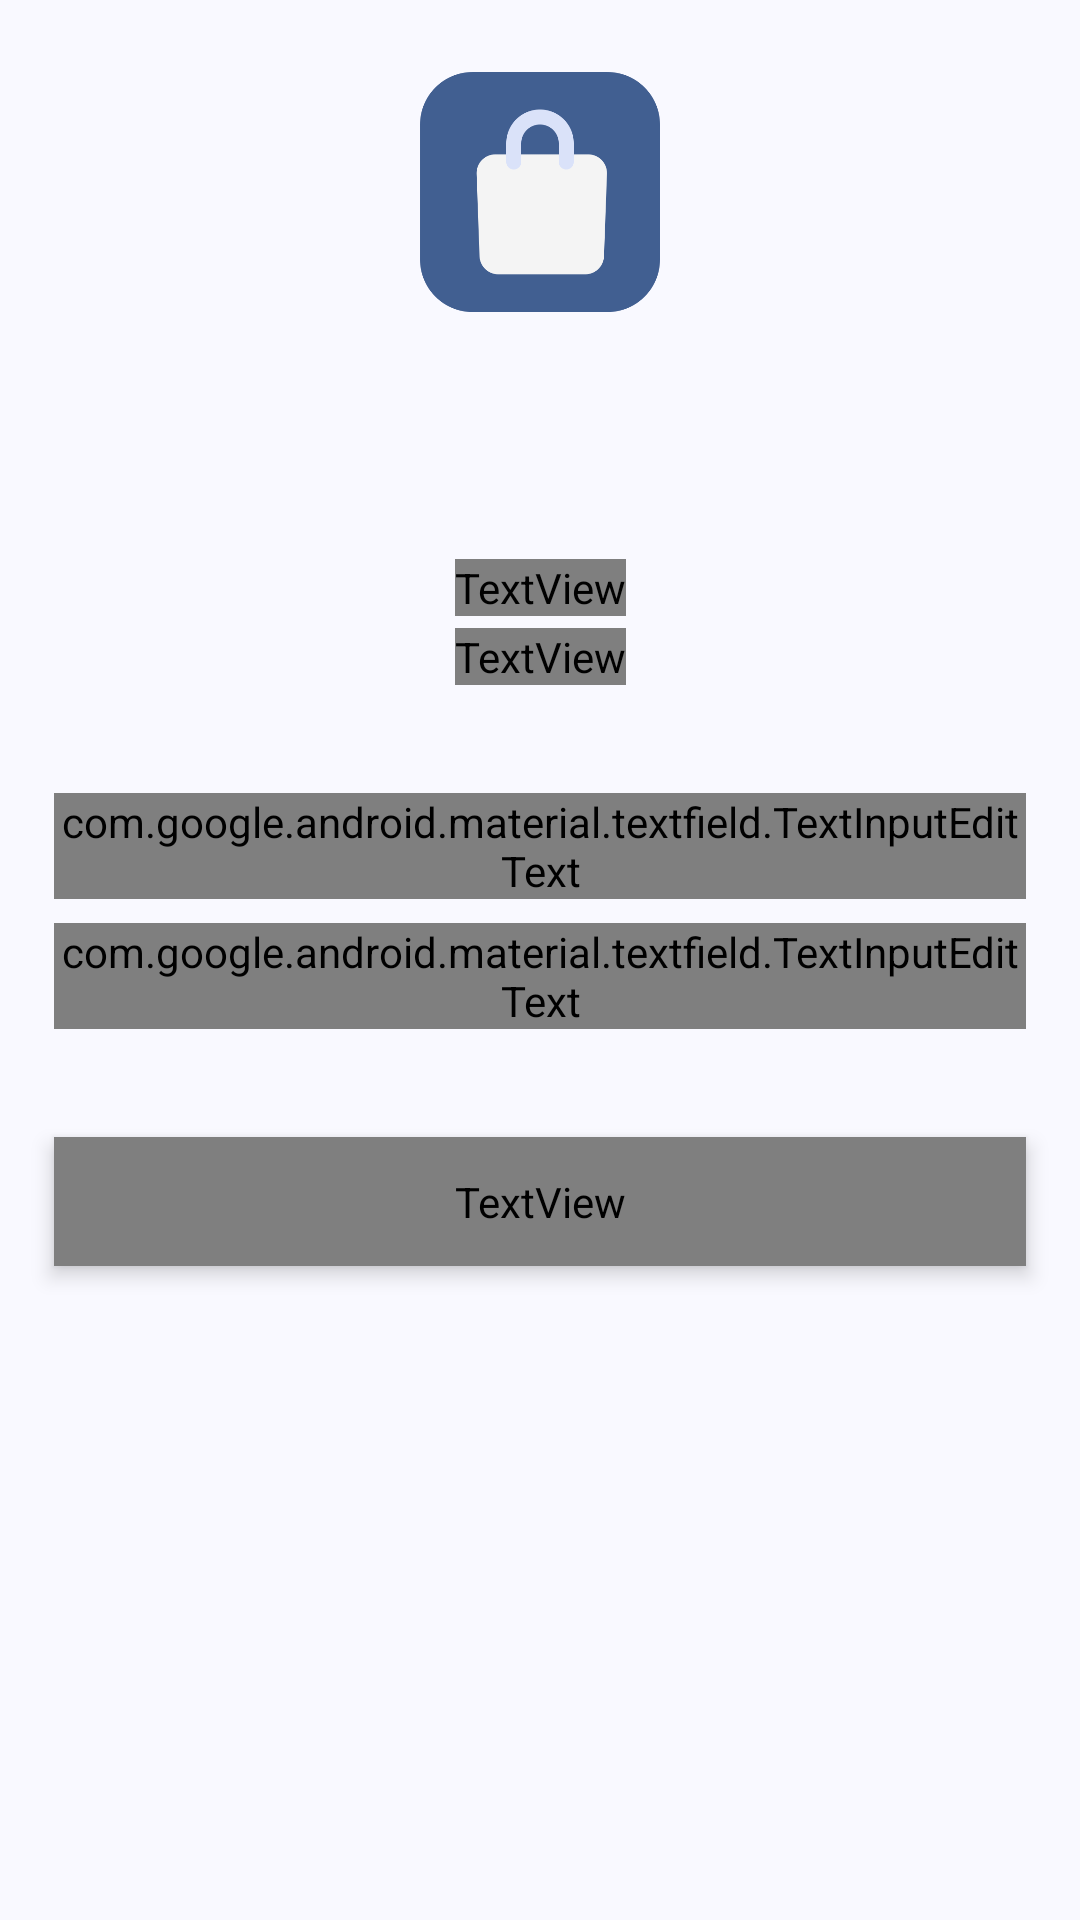

Named icons in this screenshot (1080 x 1920) and their centers, [x,y]:
shop: [540,192]
